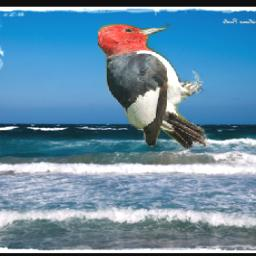Woodpecker: (97, 22, 209, 149)
